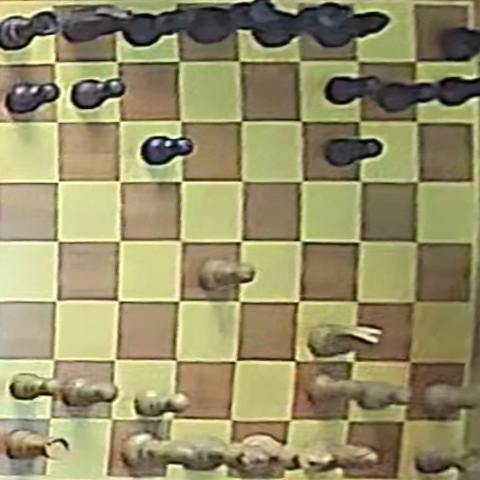black-bishop: (122, 4, 203, 47), (310, 9, 395, 46)
black-king: (252, 2, 354, 49)
black-knight: (60, 5, 135, 44)
black-pawn: (377, 79, 439, 112), (5, 81, 59, 115), (72, 78, 126, 110), (324, 138, 382, 167), (326, 76, 383, 105), (141, 135, 194, 165), (436, 75, 479, 106)
black-queen: (184, 0, 276, 46)
black-rook: (0, 11, 59, 51), (439, 26, 480, 61)
white-bishop: (122, 432, 201, 475), (300, 438, 385, 474)
white-king: (237, 432, 337, 475)
white-knight: (308, 322, 382, 357)
white-pawn: (420, 382, 478, 416), (59, 377, 118, 408), (199, 258, 255, 290), (354, 380, 411, 409), (134, 389, 188, 417), (10, 372, 57, 400), (306, 374, 345, 405)
white-queen: (174, 436, 274, 474)
white-rook: (4, 429, 69, 459), (417, 446, 479, 474)
